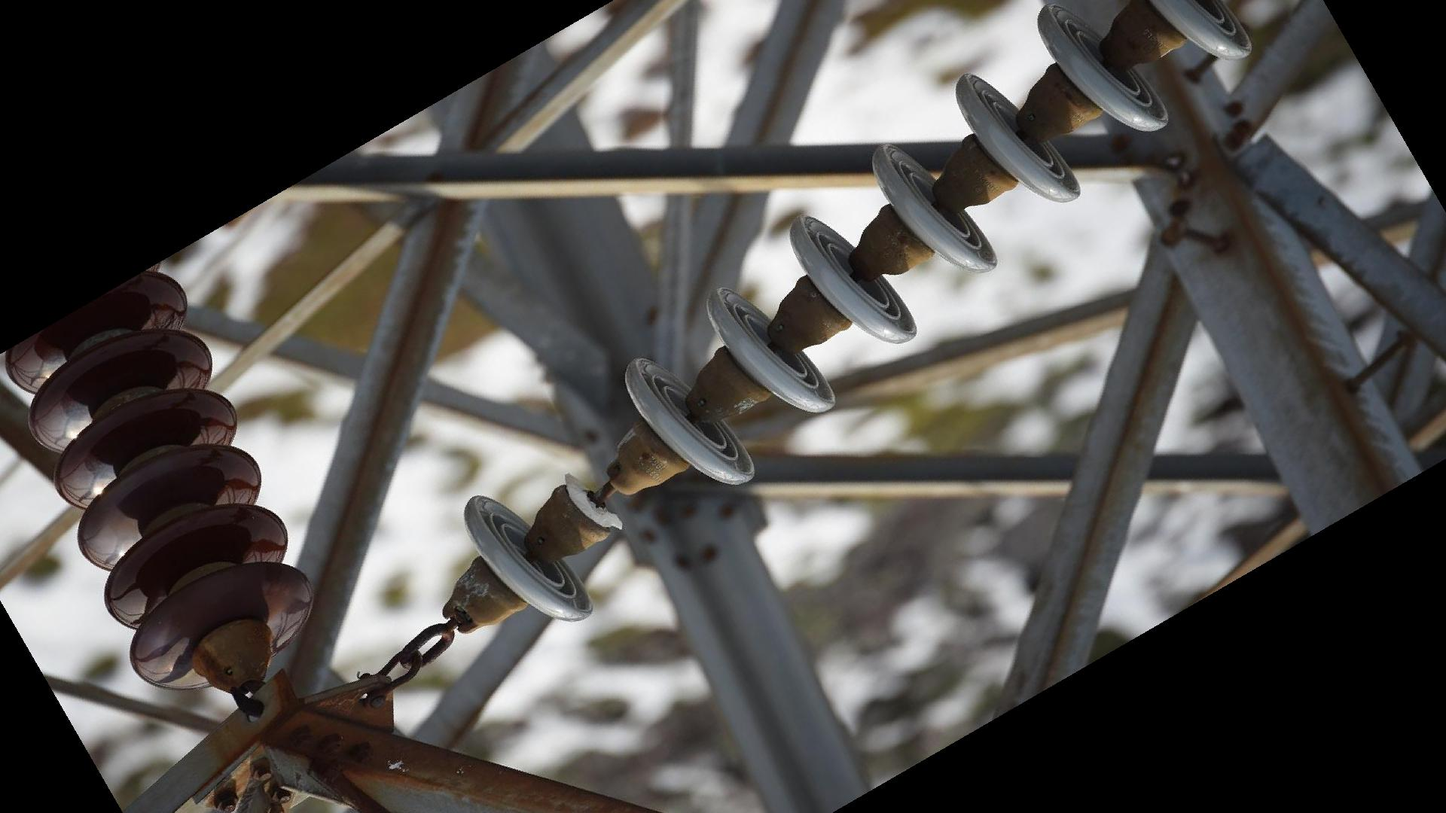insulator: (459, 1, 1259, 630), (1, 268, 319, 693)
insulator_breakage: (557, 470, 628, 537)
